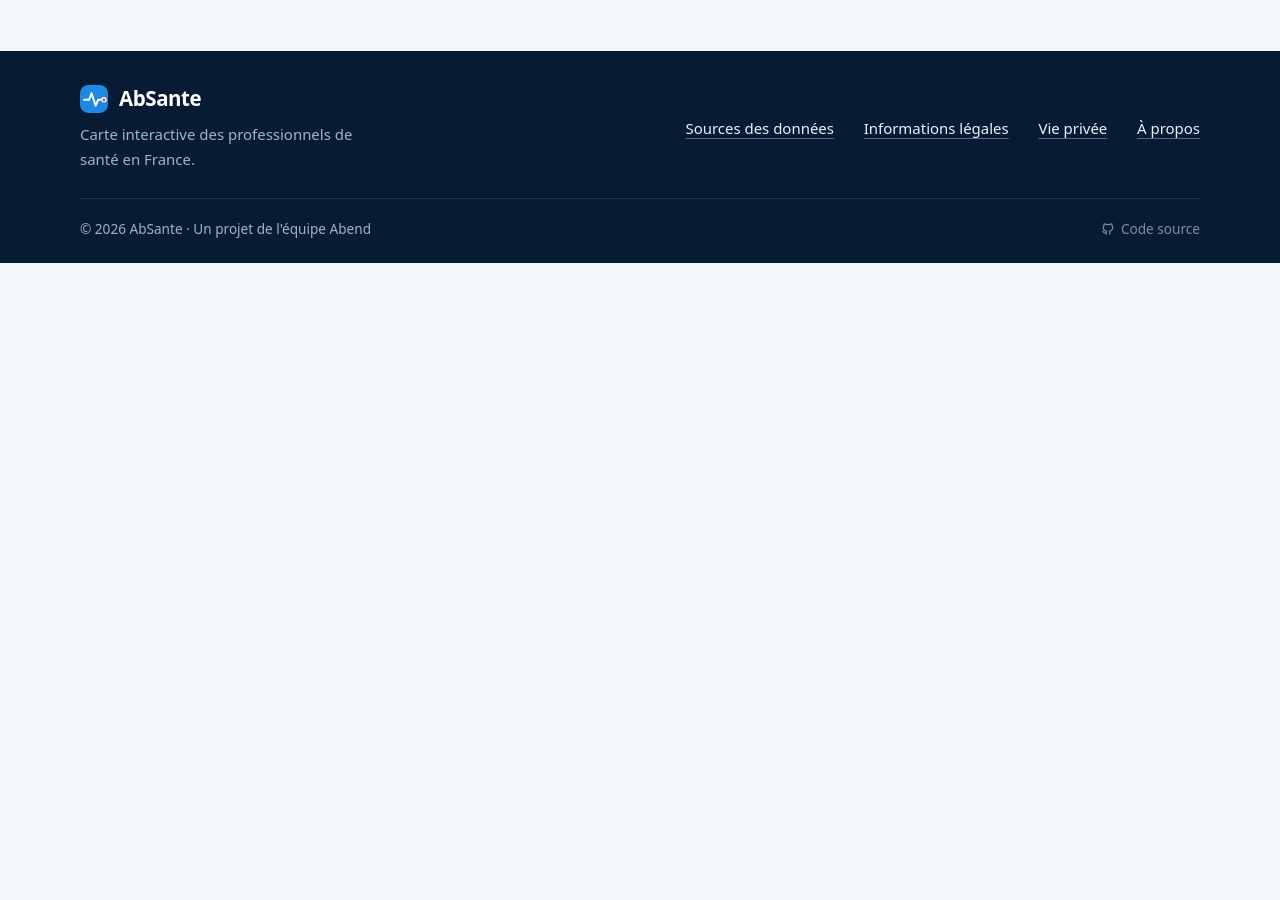
Test: SiteFooter › « Vie privée » ouvre sa fenêtre de détail, et elle seule
This screenshot has width=1280, height=900.
Click the button "Vie privée": point(1073, 129) [1038,116,1107,142]
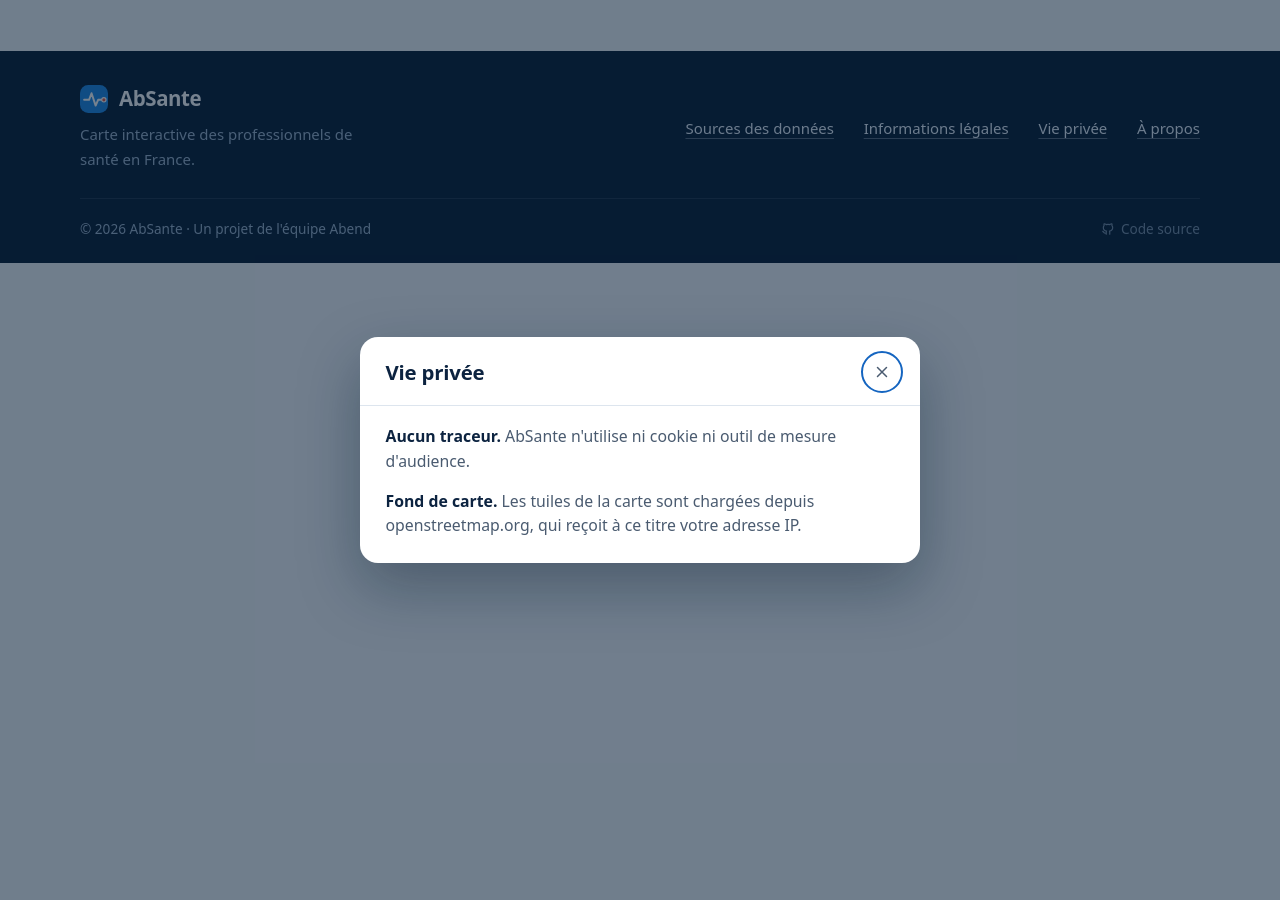
Now the heading "Vie privée" is shown, box [386,360,484,385]
